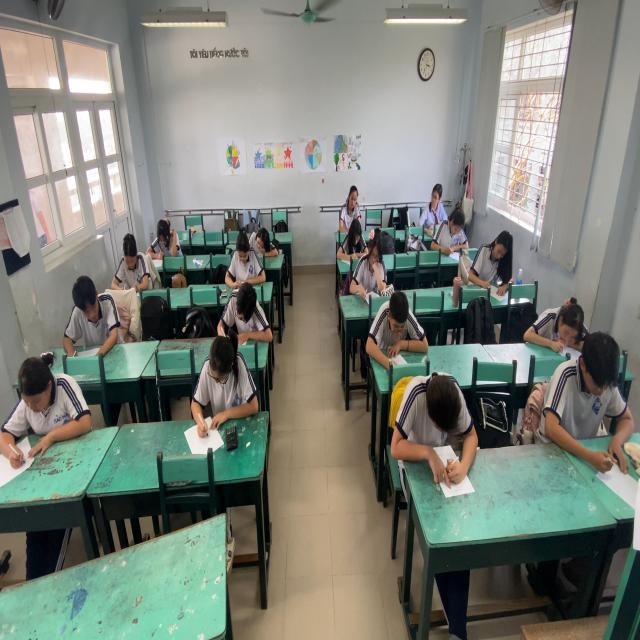cheating: (422, 176, 448, 231)
not_cheating: (556, 321, 626, 468), (2, 349, 88, 457), (403, 367, 470, 489), (55, 278, 124, 360), (198, 335, 249, 421), (372, 286, 424, 366), (533, 292, 590, 354), (221, 284, 272, 344), (469, 220, 508, 298), (112, 234, 150, 297), (354, 226, 388, 294), (434, 196, 468, 252), (230, 233, 264, 287), (149, 214, 182, 260), (248, 220, 277, 260), (340, 182, 362, 229), (341, 213, 362, 261)
